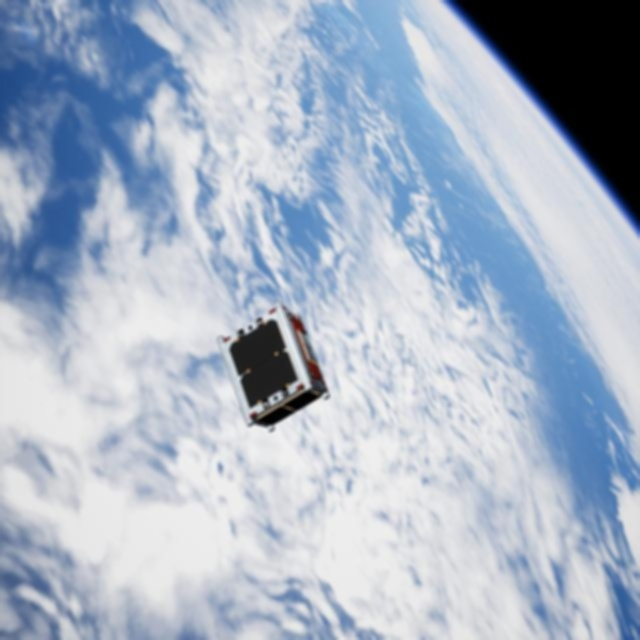medium_debris: (217, 300, 335, 431)
